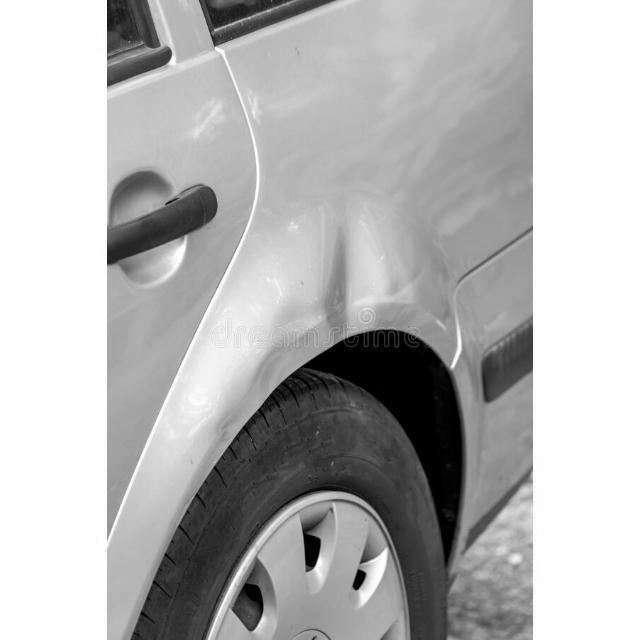quaterpanel-dent: (208, 7, 525, 487)
